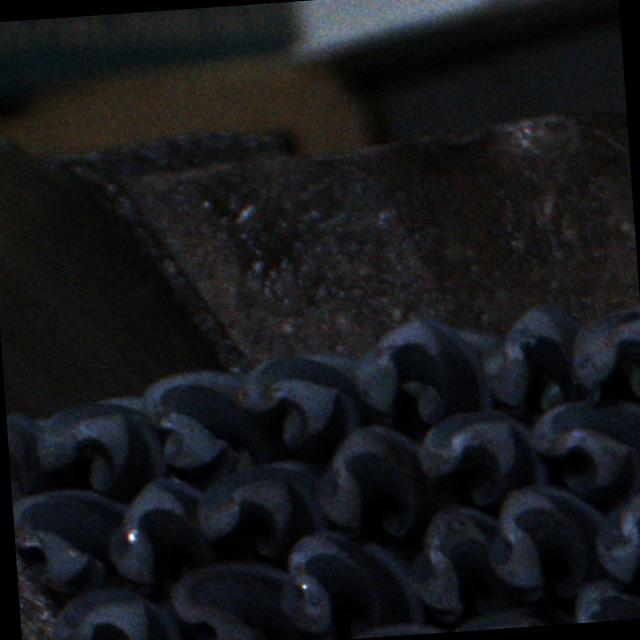tool_b: (276, 523, 425, 640), (350, 314, 497, 428), (484, 482, 612, 606), (140, 367, 274, 482), (308, 422, 429, 542), (477, 299, 603, 413), (194, 458, 330, 562), (415, 408, 552, 511), (35, 393, 168, 497), (235, 349, 368, 451), (11, 483, 131, 593), (400, 504, 506, 624), (101, 473, 214, 585), (524, 394, 640, 500), (164, 558, 299, 640), (50, 583, 181, 640), (570, 307, 640, 405), (591, 485, 640, 588), (6, 408, 55, 504), (442, 602, 576, 632), (566, 577, 640, 623)
